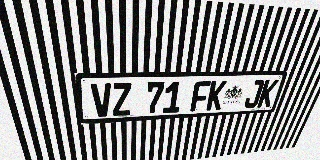1: (163, 82, 183, 113)
7: (145, 82, 165, 114)
F: (190, 81, 211, 112)
J: (243, 80, 265, 108)
K: (257, 79, 279, 108), (206, 81, 227, 111)
V: (90, 83, 112, 117)
Z: (112, 83, 131, 116)
